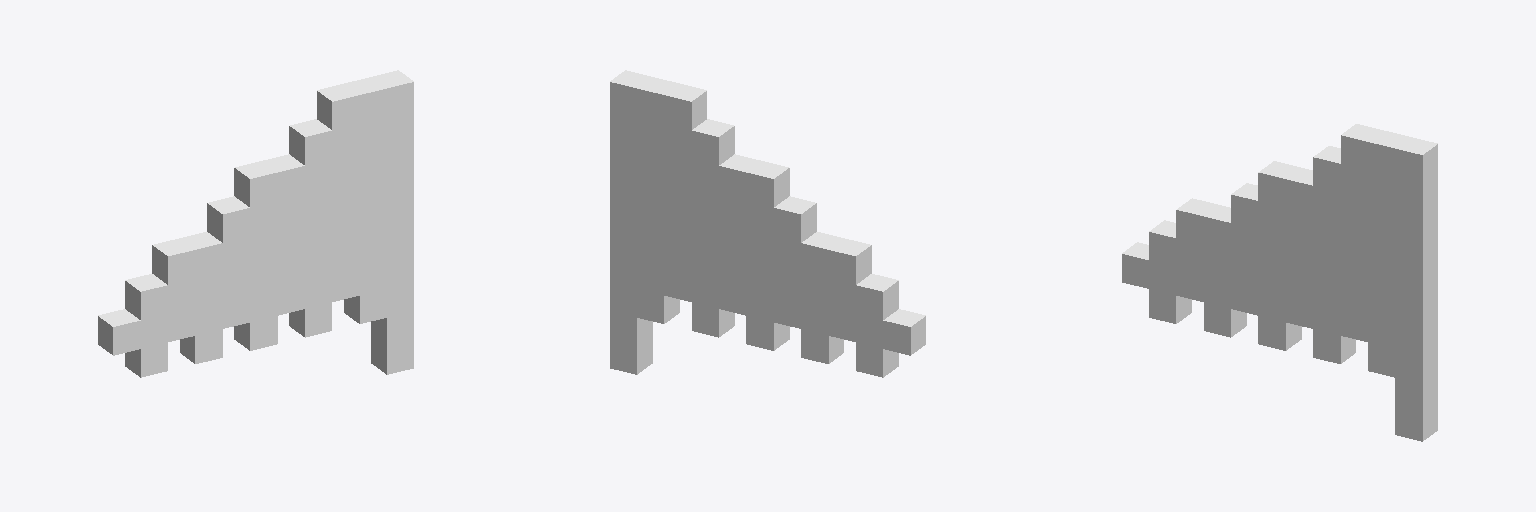
The model's file is stopflag.obj.
3 renders of one model, left to right at view 1: azimuth 30°, elevation 25°; view 2: azimuth 150°, elevation 25°; view 3: azimuth 330°, elevation 25°, orthographic.
Visible parts, largest first — view 1: object 1; view 2: object 1; view 3: object 1.
Boxes of the visible parts, <box> form: object 1: <box>98,70,413,377</box>; object 1: <box>610,70,925,377</box>; object 1: <box>1122,124,1437,441</box>.
Size of the model in its own units: 1.1 by 1 by 0.1.